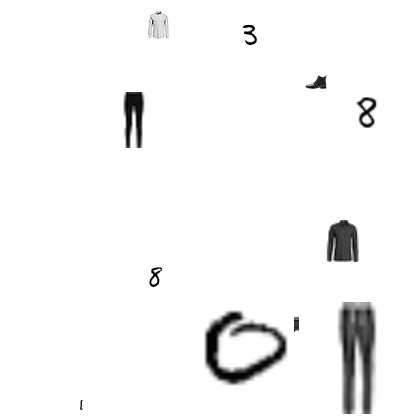0: (182, 292, 294, 404)
1: (74, 398, 88, 412)
3: (236, 20, 264, 48)
8: (346, 90, 388, 132), (141, 262, 169, 290)
Ankle_boot: (305, 71, 327, 93)
Bag: (285, 313, 307, 335)
Shirt: (321, 220, 363, 262), (144, 11, 172, 39)
Trouser: (299, 302, 411, 414), (106, 92, 162, 148)
